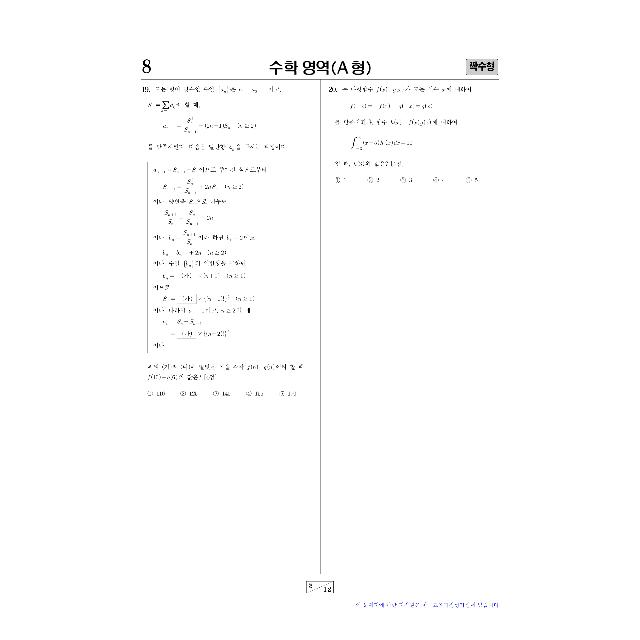multiple: (138, 82, 316, 400), (324, 81, 503, 193)
